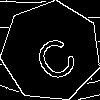C: (26, 26, 81, 85)
